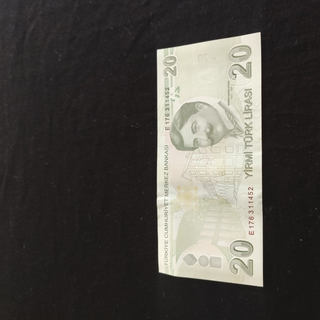20TLBack: (156, 32, 264, 288)
